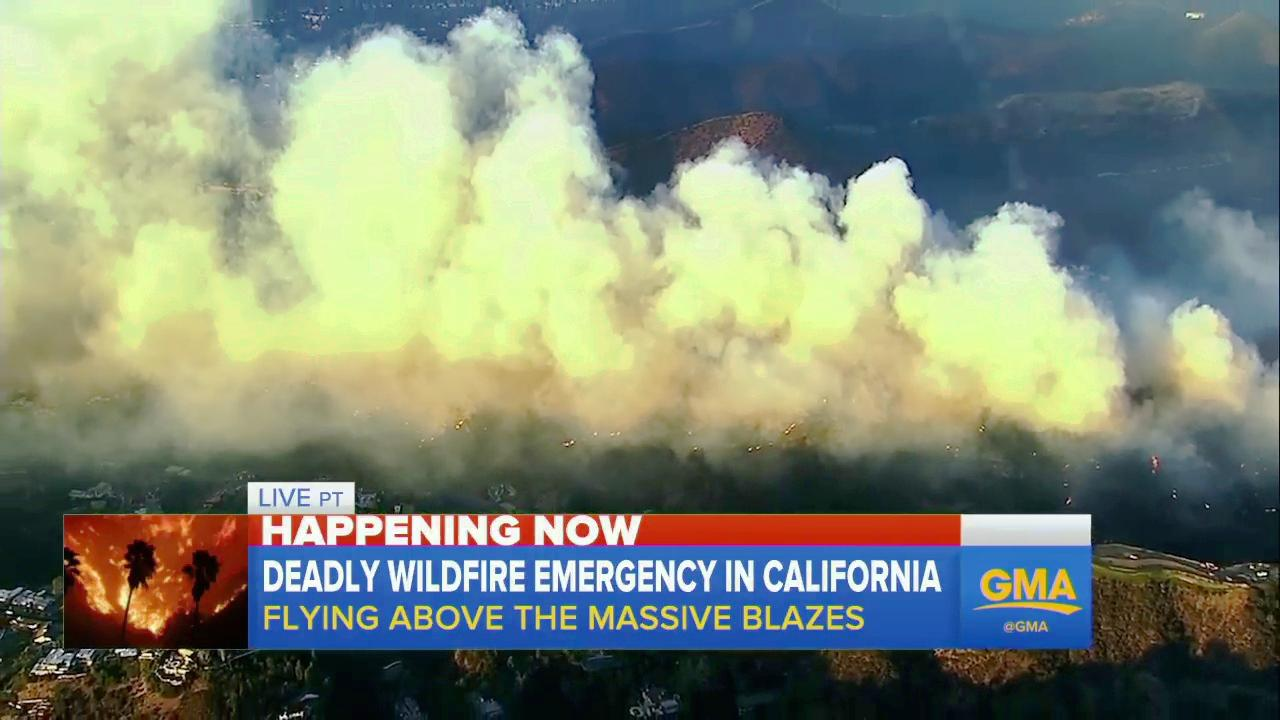smoke: (0, 2, 1278, 475), (272, 0, 801, 468), (810, 166, 1271, 465), (0, 0, 254, 347)
